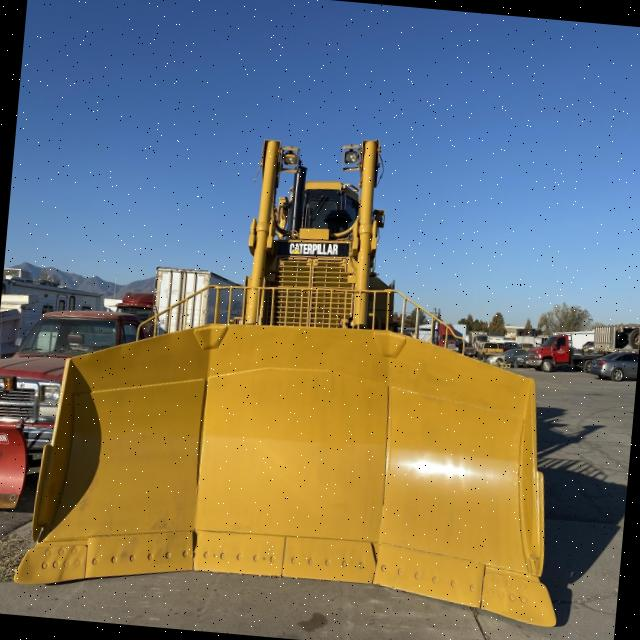Bulldozer: (24, 67, 610, 640)
